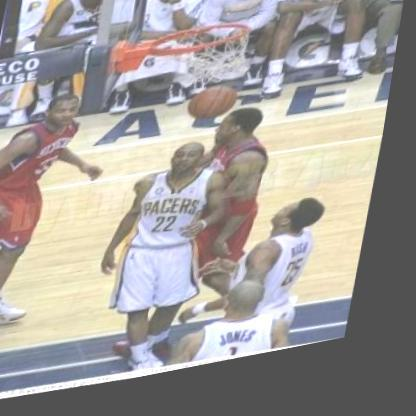basketball: (189, 88, 242, 132)
